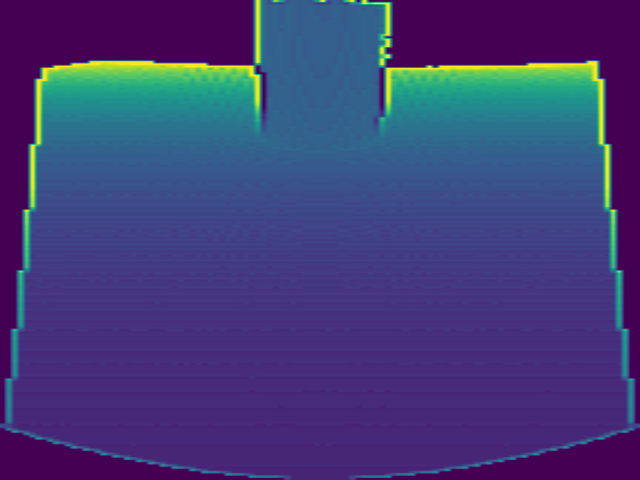cylinder: (251, 1, 393, 144)
